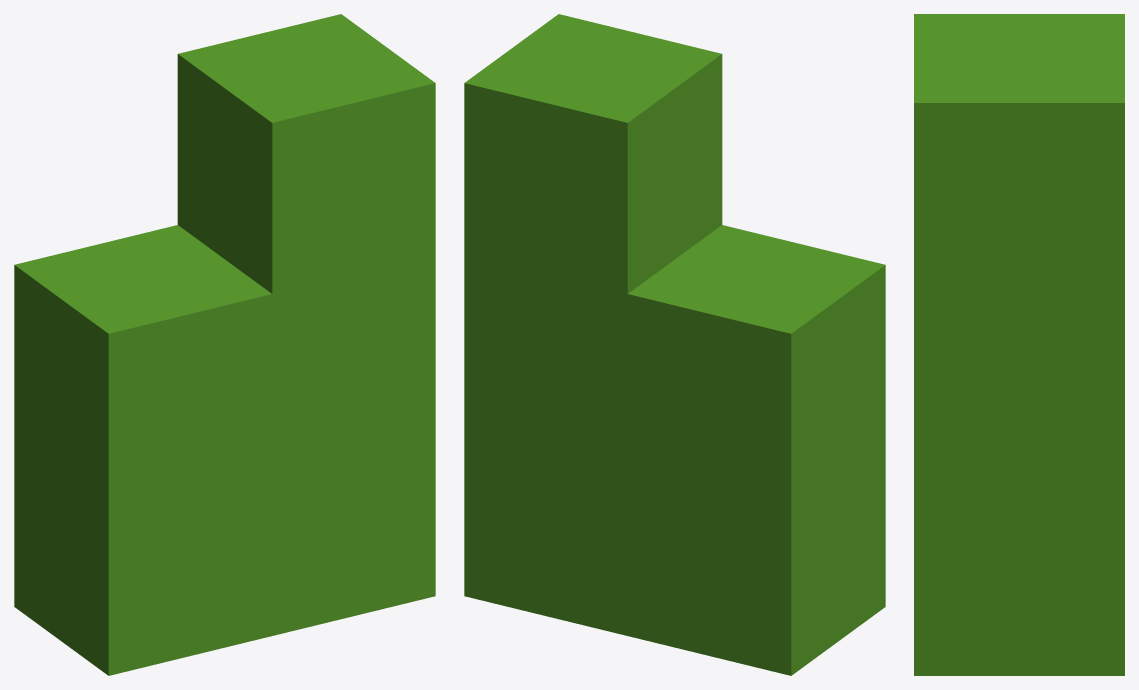
Rendered from Arm.obj.
3 renders of one model, left to right at view 1: azimuth 30°, elevation 25°; view 2: azimuth 150°, elevation 25°; view 3: azimuth 270°, elevation 25°, orthographic. The views are drawn at different scales.
Size of the model in its own units: 2 by 3 by 1.
